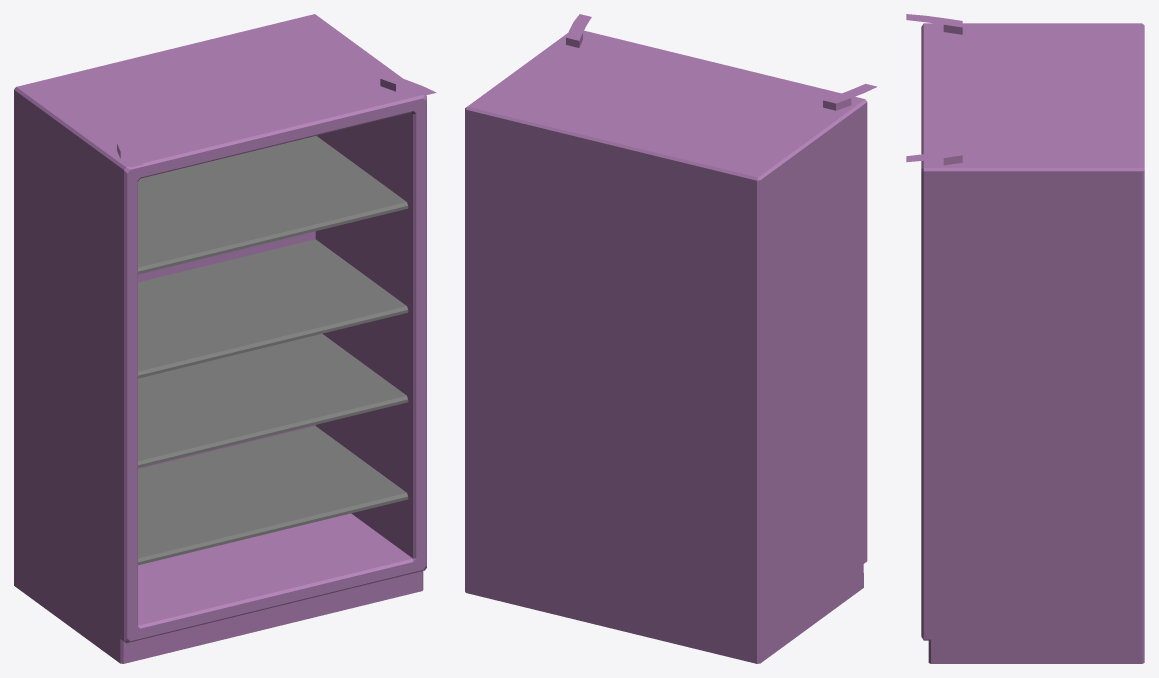
The model's file is Frigo.fbx.
The picture shows the model from 3 angles, left to right: view 1: azimuth 30°, elevation 25°; view 2: azimuth 150°, elevation 25°; view 3: azimuth 270°, elevation 25°; orthographic projection. The views are drawn at different scales.
Parts seen in each view (by area): view 1: Frigo; view 2: Frigo; view 3: Frigo.
Part boxes in pixels (x1,y1,x2,y2): Frigo: (14, 14, 436, 663); Frigo: (465, 14, 877, 663); Frigo: (906, 14, 1144, 663).
Size of the model in its own units: 141 by 223 by 96.02.
